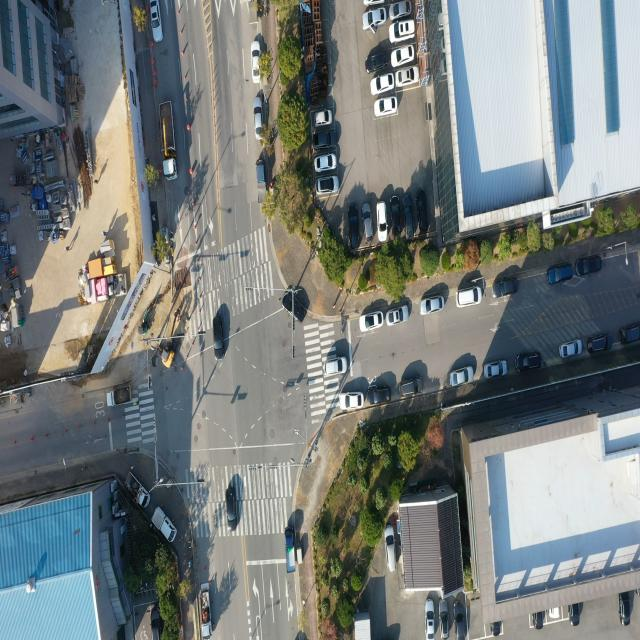car: (415, 189, 432, 238), (547, 258, 573, 285), (399, 373, 425, 400), (401, 195, 416, 241), (364, 49, 390, 75), (619, 587, 635, 626), (150, 0, 164, 44), (385, 524, 397, 575), (362, 7, 388, 30), (339, 389, 366, 411), (576, 255, 602, 276), (492, 278, 518, 299), (455, 286, 482, 306), (449, 365, 474, 386), (358, 312, 384, 332), (452, 601, 466, 638), (389, 196, 401, 239), (621, 321, 640, 348), (586, 333, 611, 353), (516, 352, 542, 371), (375, 97, 398, 118), (372, 73, 395, 94), (391, 45, 414, 66), (391, 21, 414, 42), (254, 95, 264, 142), (386, 306, 409, 326), (483, 359, 507, 378), (362, 200, 373, 240), (325, 356, 348, 375), (367, 386, 390, 405), (420, 296, 444, 314), (377, 203, 388, 241), (348, 206, 358, 247), (567, 601, 583, 626), (396, 67, 417, 86), (314, 176, 336, 194), (559, 341, 581, 359), (225, 487, 235, 525), (314, 131, 334, 150), (315, 155, 336, 173), (214, 310, 223, 351), (251, 42, 260, 82), (390, 1, 409, 19), (426, 599, 435, 636), (438, 599, 447, 634), (315, 109, 332, 126)
medium_truck: (157, 106, 177, 180)
small_truck: (124, 470, 149, 512), (152, 507, 176, 542), (198, 583, 213, 639), (255, 157, 268, 205), (105, 384, 131, 407), (286, 526, 298, 572)
